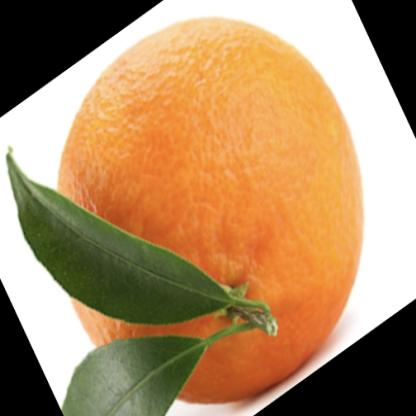fresh: (56, 16, 365, 400)
